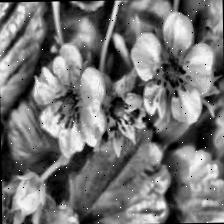Blossom Blight: (153, 46, 194, 100), (46, 80, 86, 130), (103, 92, 133, 132)
